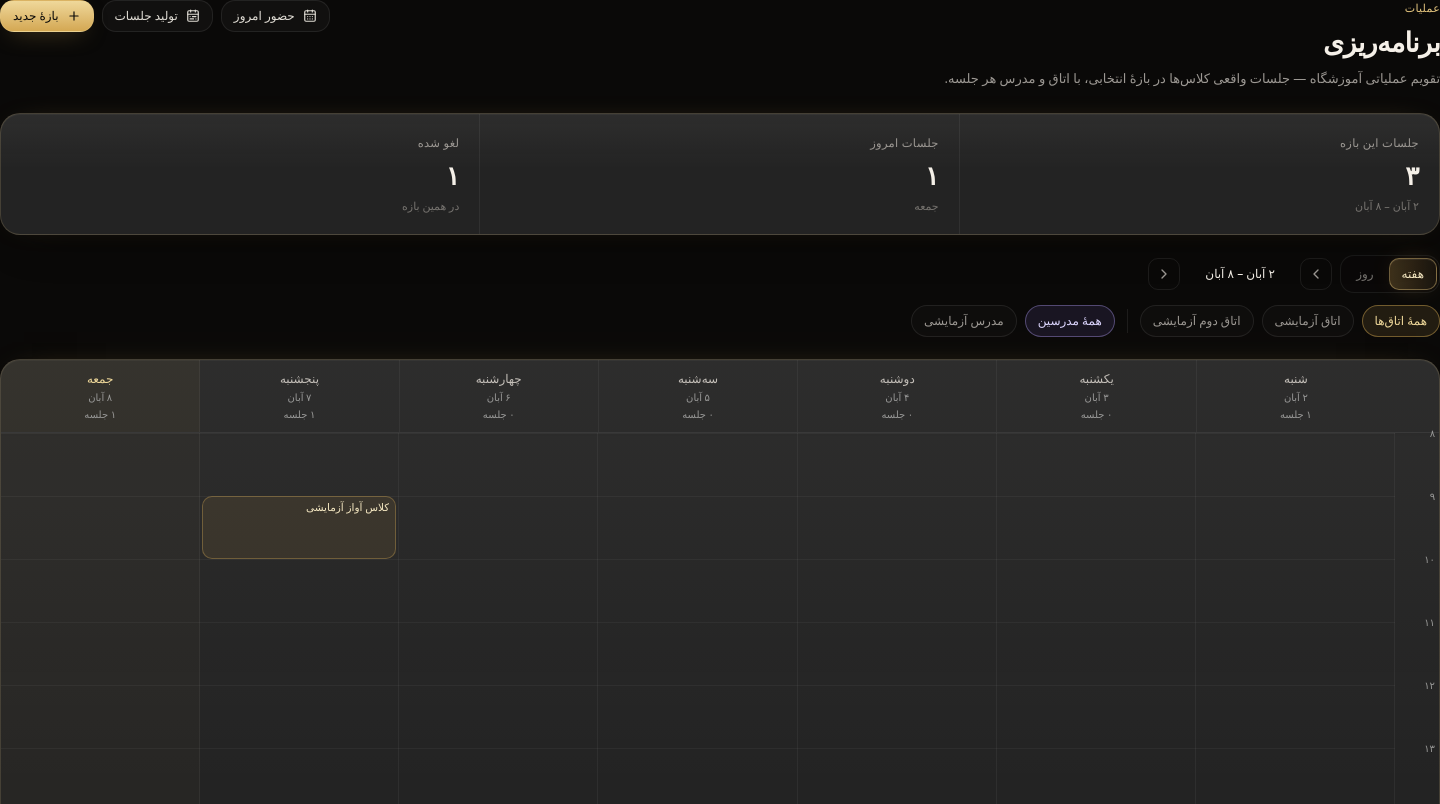
Test: SchedulingView reads › does not infer «برگزار شده» from a date that has passed
The image size is (1440, 804).
Click the tab "روز": (1365, 274) [1343,258,1387,290]
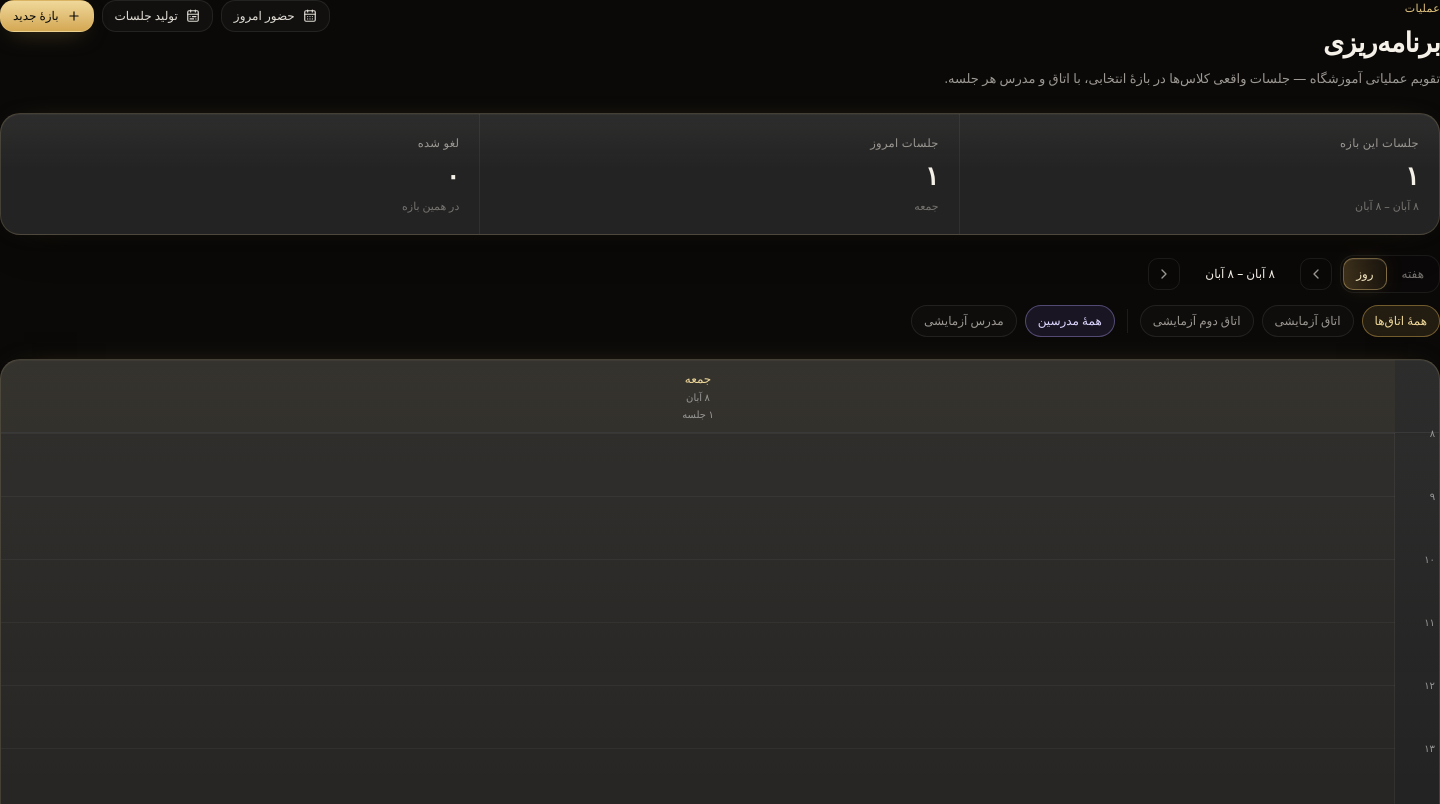
Click the button named "روز قبل": (1164, 274) [1148,258,1180,290]
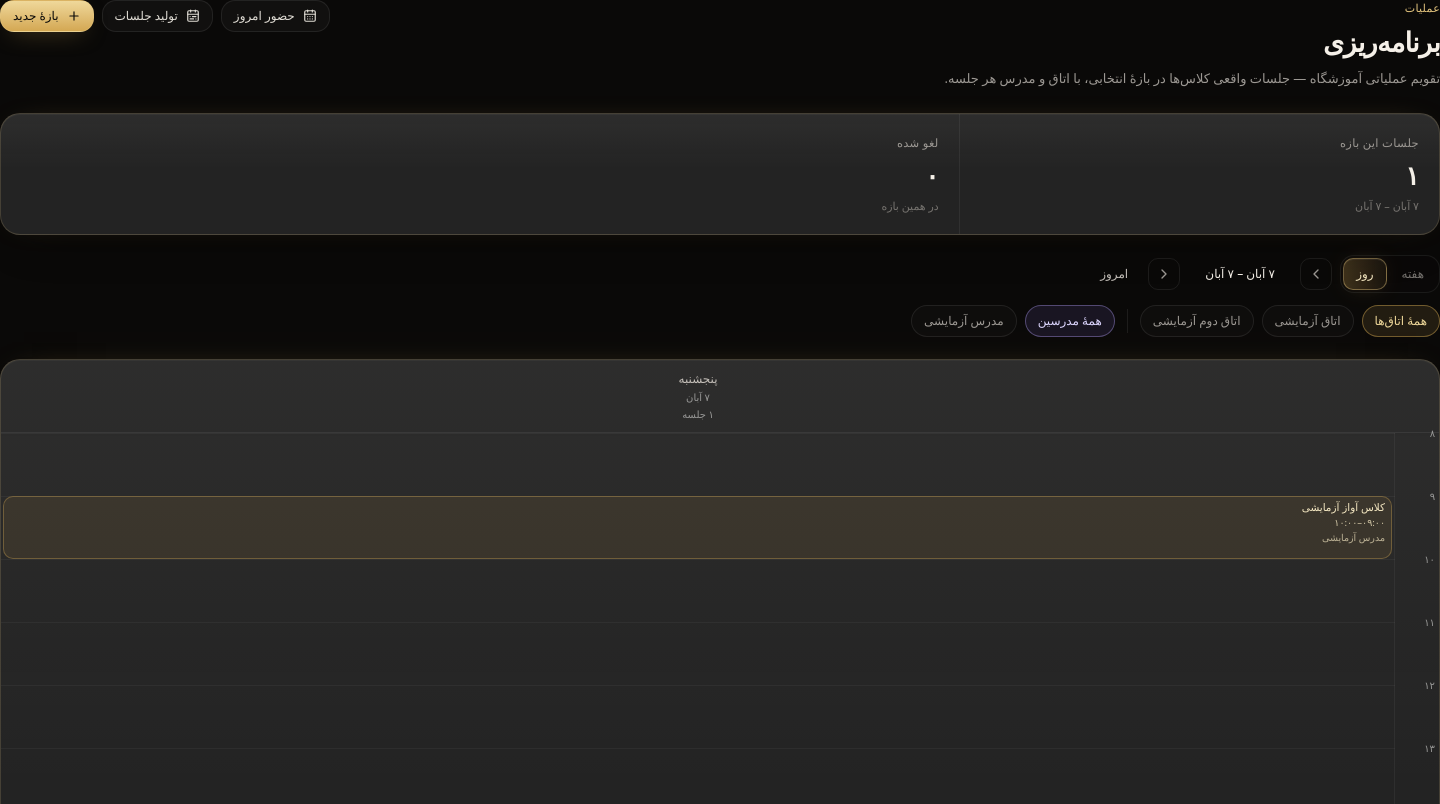
Expected: the text "کلاس آواز آزمایشی" is shown, [1302,501,1385,514]
Expected: the button "کلاس آواز آزمایشی" is shown
Click the button "کلاس آواز آزمایشی": (1343, 507) [3,496,1392,559]
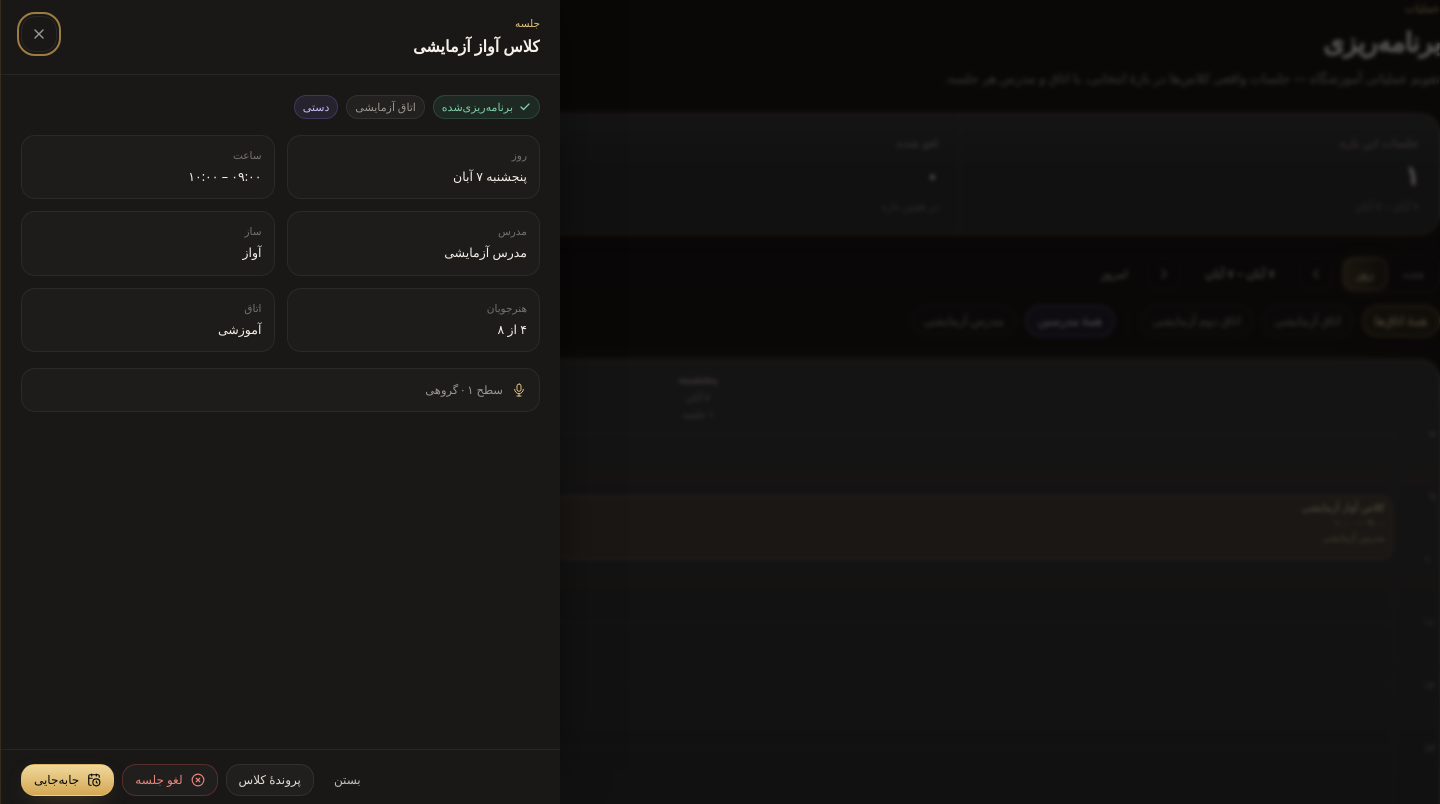
Expected: the text "برنامه‌ریزی‌شده" is shown, [433,95,540,119]
